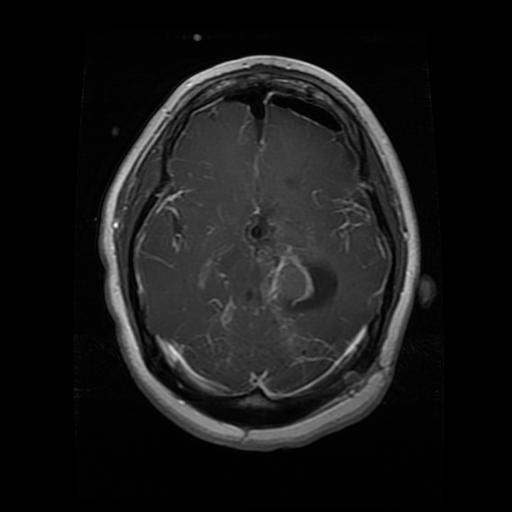Gliomia_tumour: (237, 194, 342, 316)
